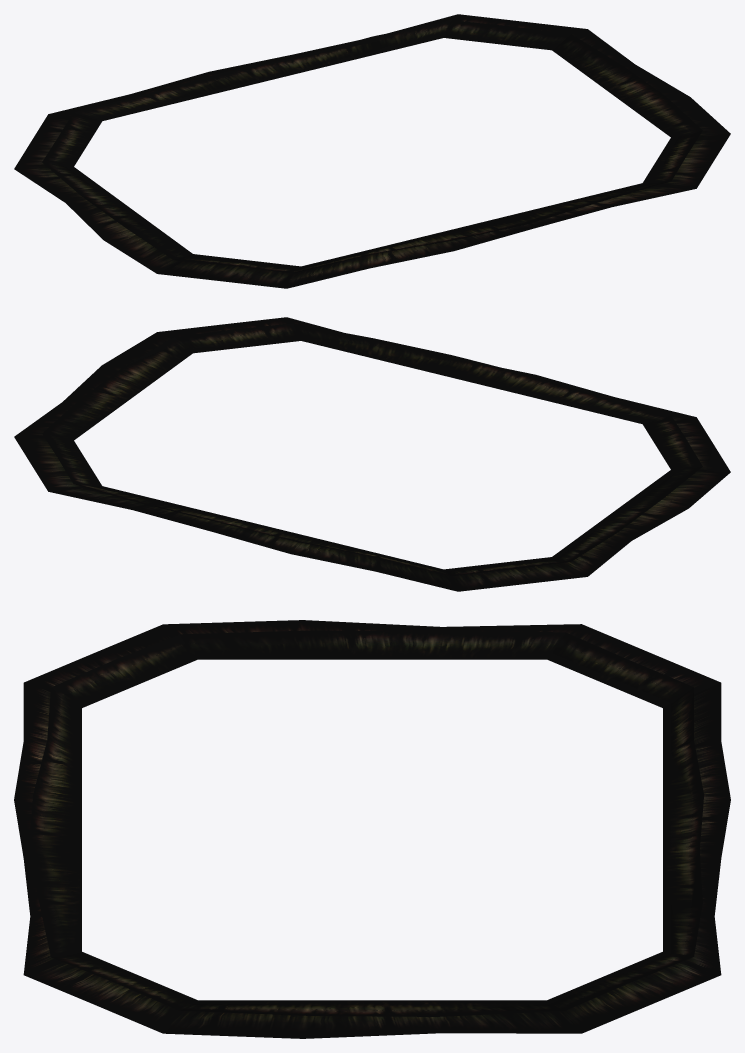
Rendered from smoke.glb.
3 renders of one model, top to bottom at view 1: azimuth 30°, elevation 25°; view 2: azimuth 150°, elevation 25°; view 3: azimuth 270°, elevation 25°, orthographic. The views are drawn at different scales.
Parts seen in each view (by area): view 1: EffStgStadiumKemuri, syougeki02; view 2: EffStgStadiumKemuri, syougeki02; view 3: EffStgStadiumKemuri, syougeki02.
Boxes of the visible parts, bbox=[...] form: EffStgStadiumKemuri: bbox=[42, 20, 702, 273]; syougeki02: bbox=[14, 14, 730, 288]; EffStgStadiumKemuri: bbox=[42, 323, 702, 576]; syougeki02: bbox=[14, 317, 730, 591]; EffStgStadiumKemuri: bbox=[28, 630, 704, 1016]; syougeki02: bbox=[14, 620, 730, 1038].
Bounding box in the file's own units: 177 × 1.91 × 128.
Materials: 1 (1 with a texture image).
